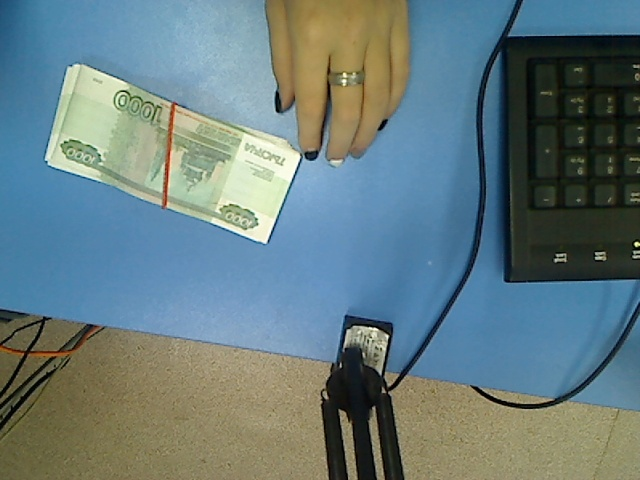banknotes: (41, 61, 305, 248)
